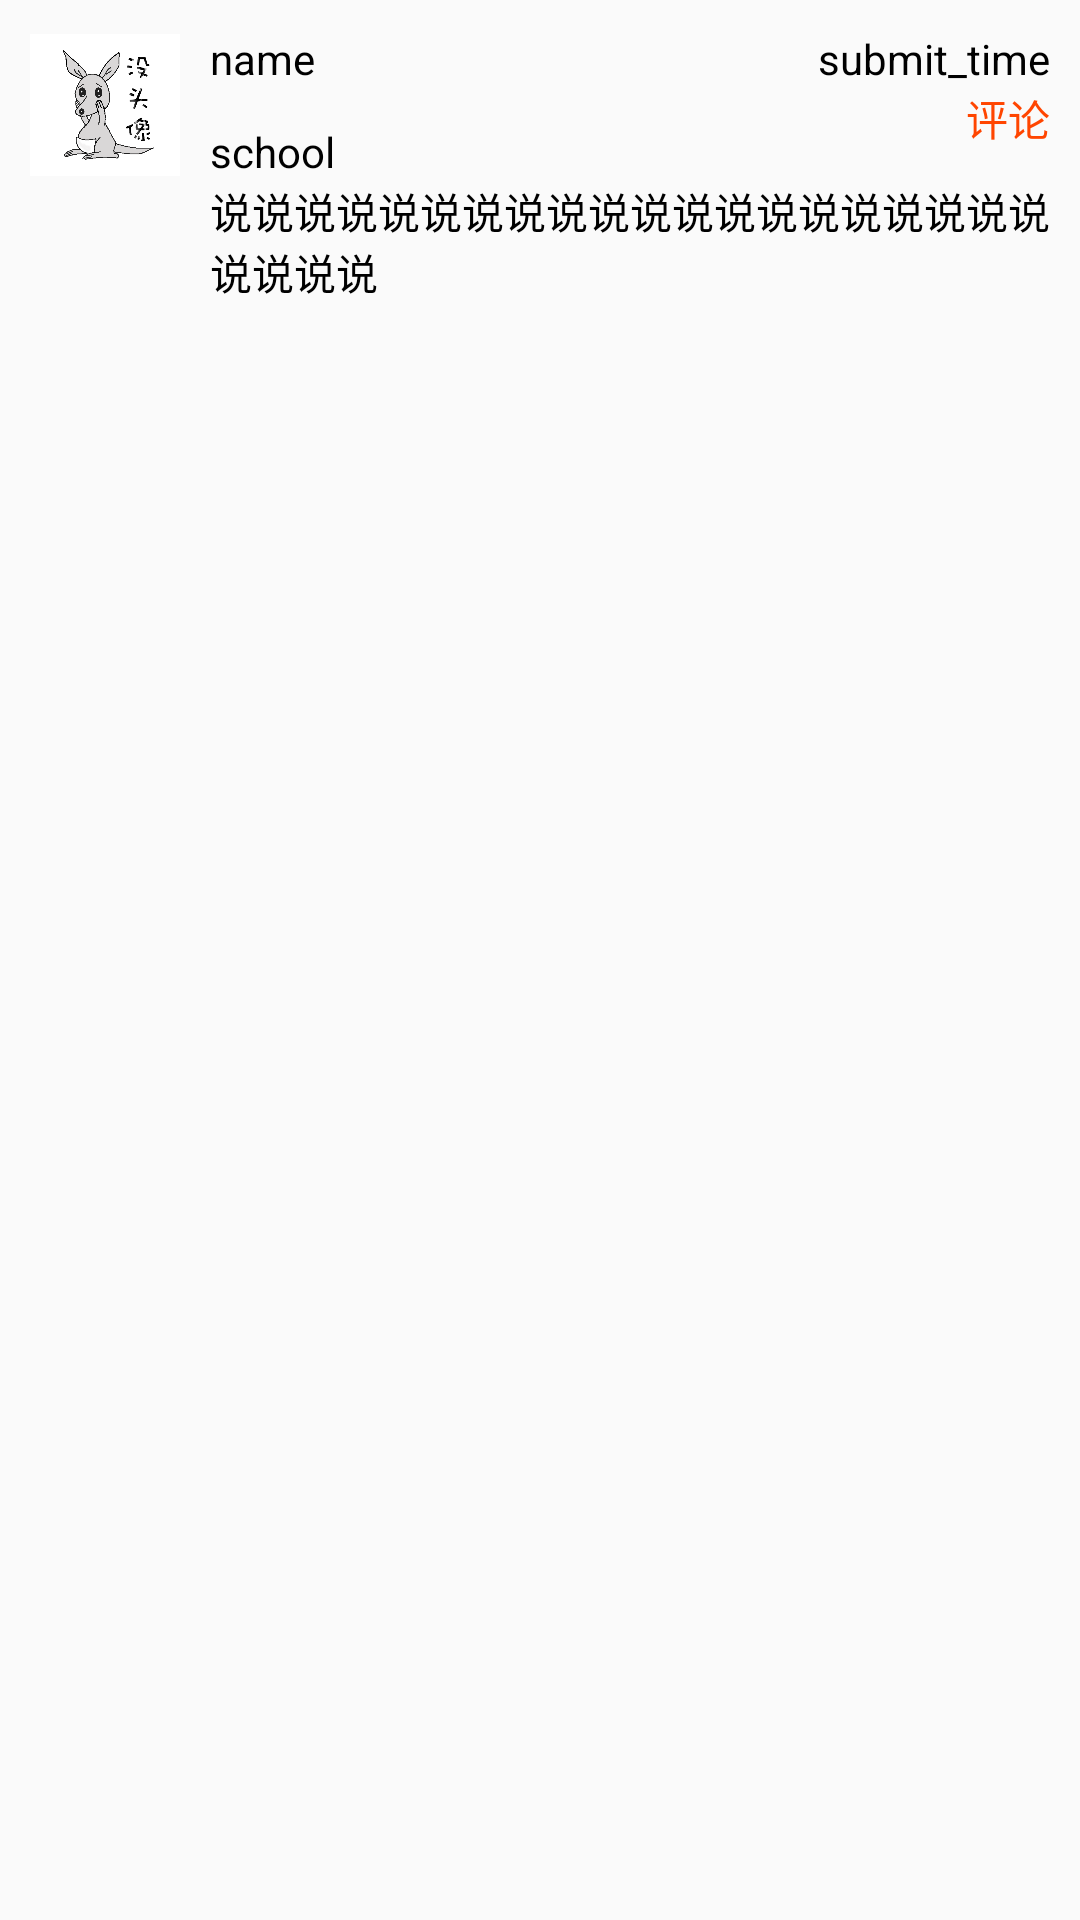

Locate icon controls on the screen. Image size 1080w x 1920h, boxes as (x1, y1, x2, y2).
kangaroo: (63, 50, 154, 160)
